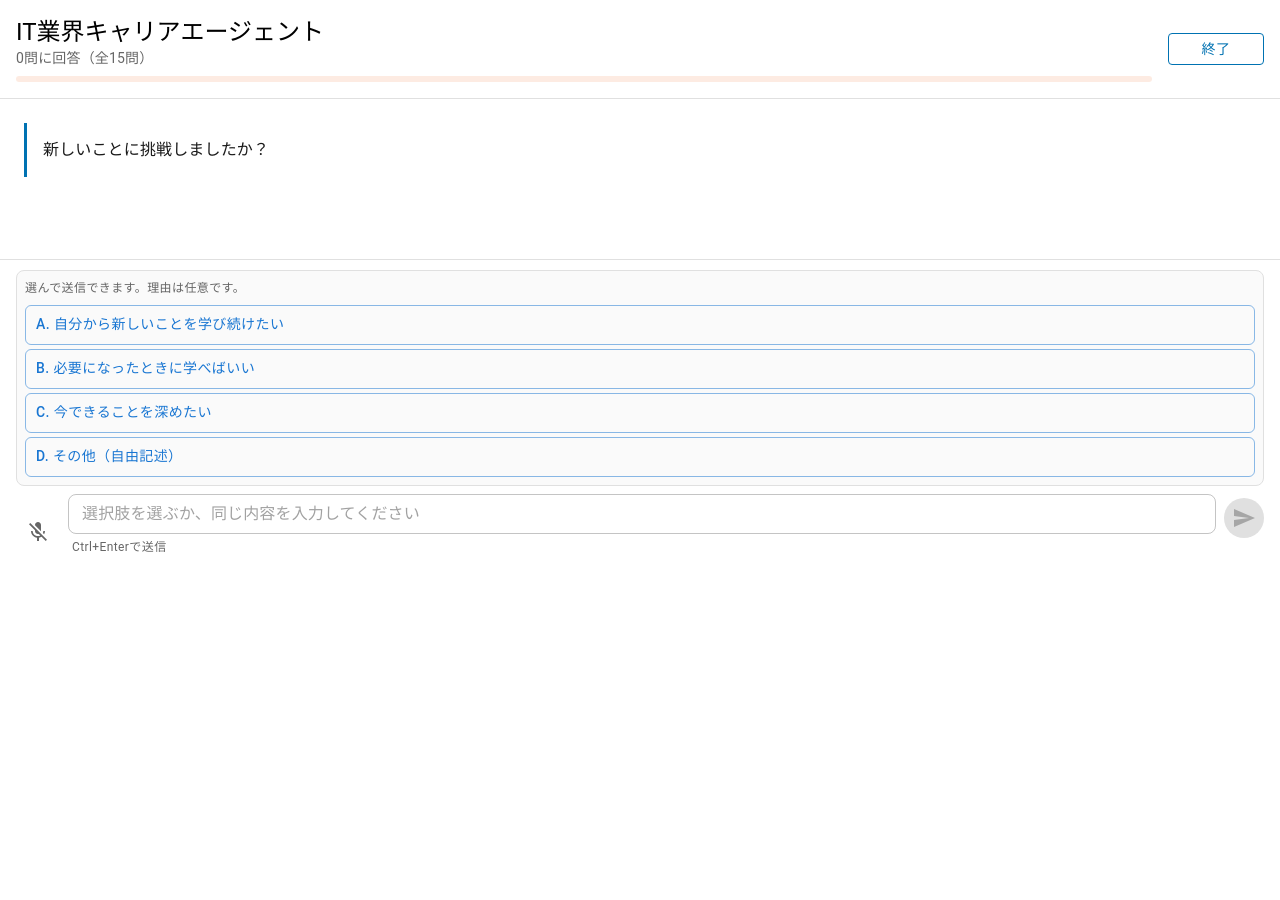
it: チャットの選択肢の切り替わり › 次の質問が来たら、その質問の選択肢に入れ替わる
Click the button "A. 自分から新しいことを学び続けたい": (169, 324) [25,305,1255,345]
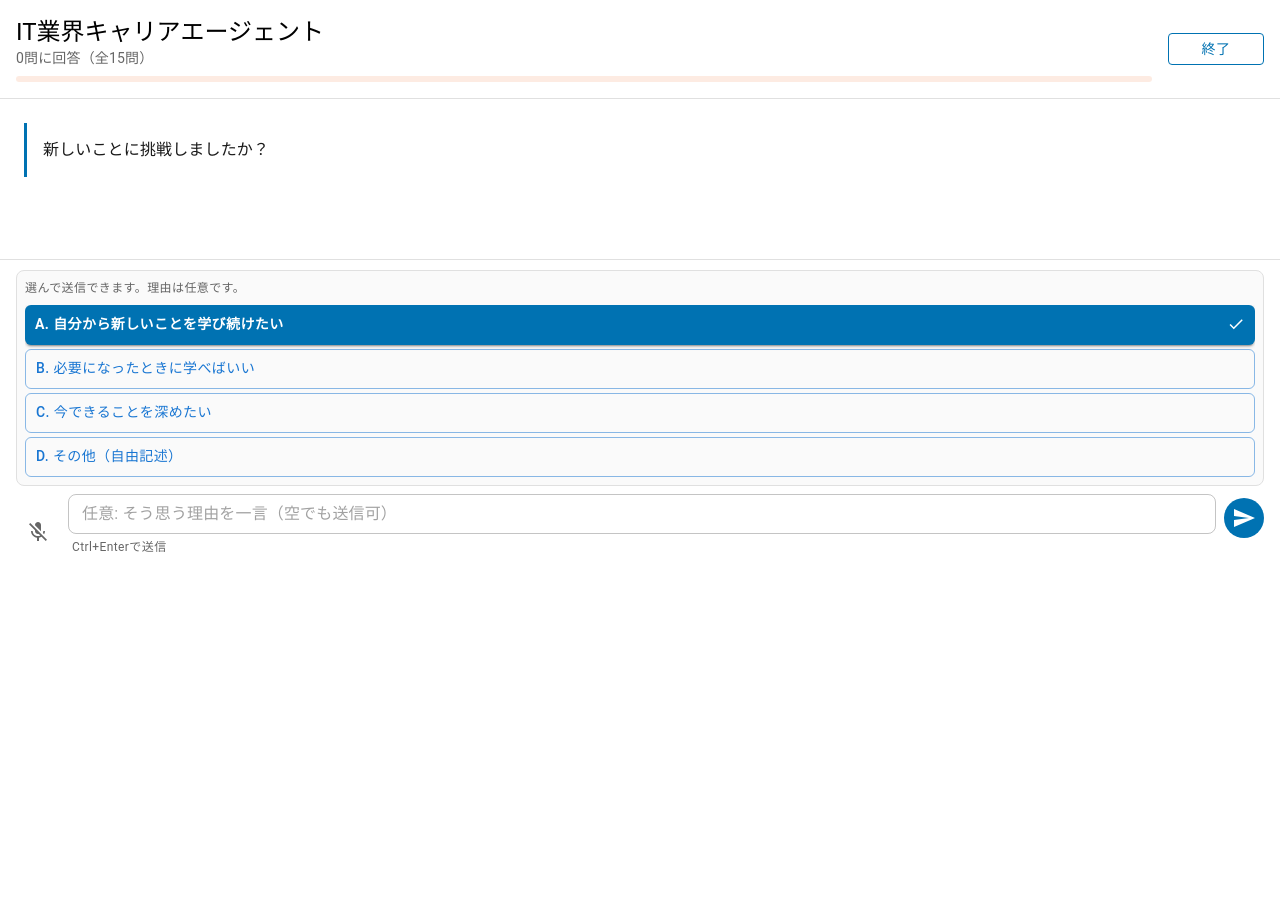
Click the button named "メッセージを送信": (1244, 518) [1224,498,1264,538]
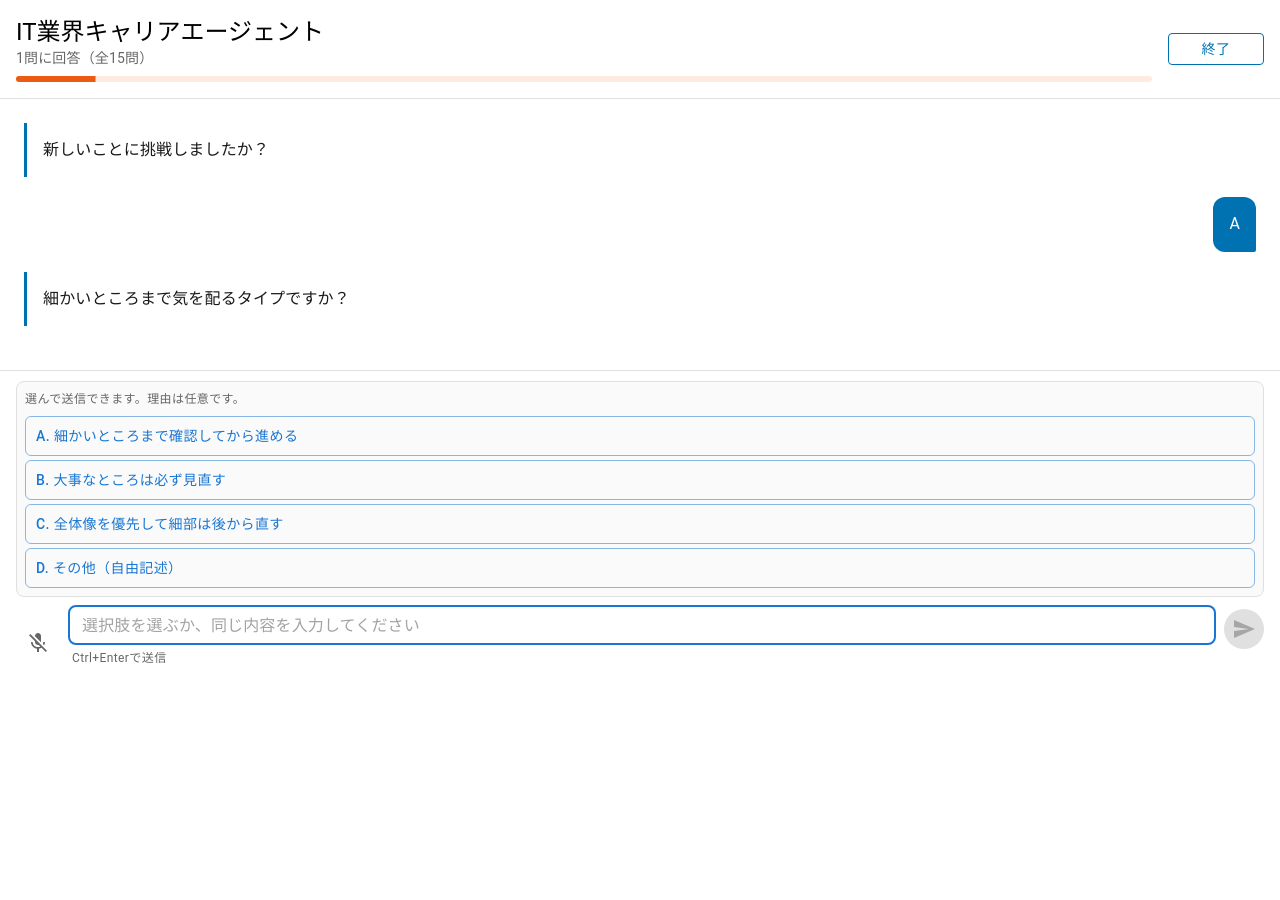
Now the button "A. 細かいところまで確認してから進める" is shown, box [25,416,1255,456]
Now the button "自分から新しいことを学び続けたい" is gone
